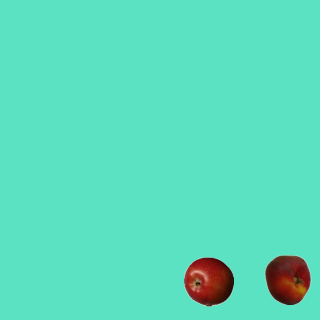Apple Braeburn: (183, 256, 233, 306)
Nectarine Flat: (262, 254, 312, 304)
